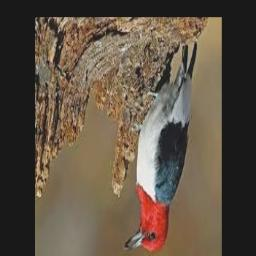Woodpecker: (125, 41, 198, 253)
